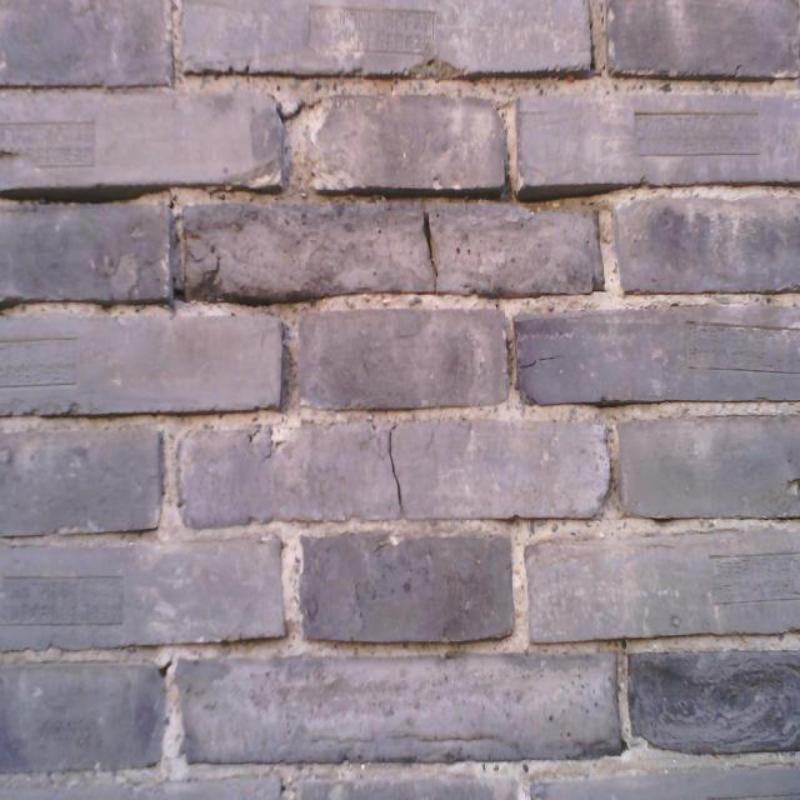pothole: (423, 210, 438, 293), (389, 425, 403, 513), (518, 354, 564, 369)
